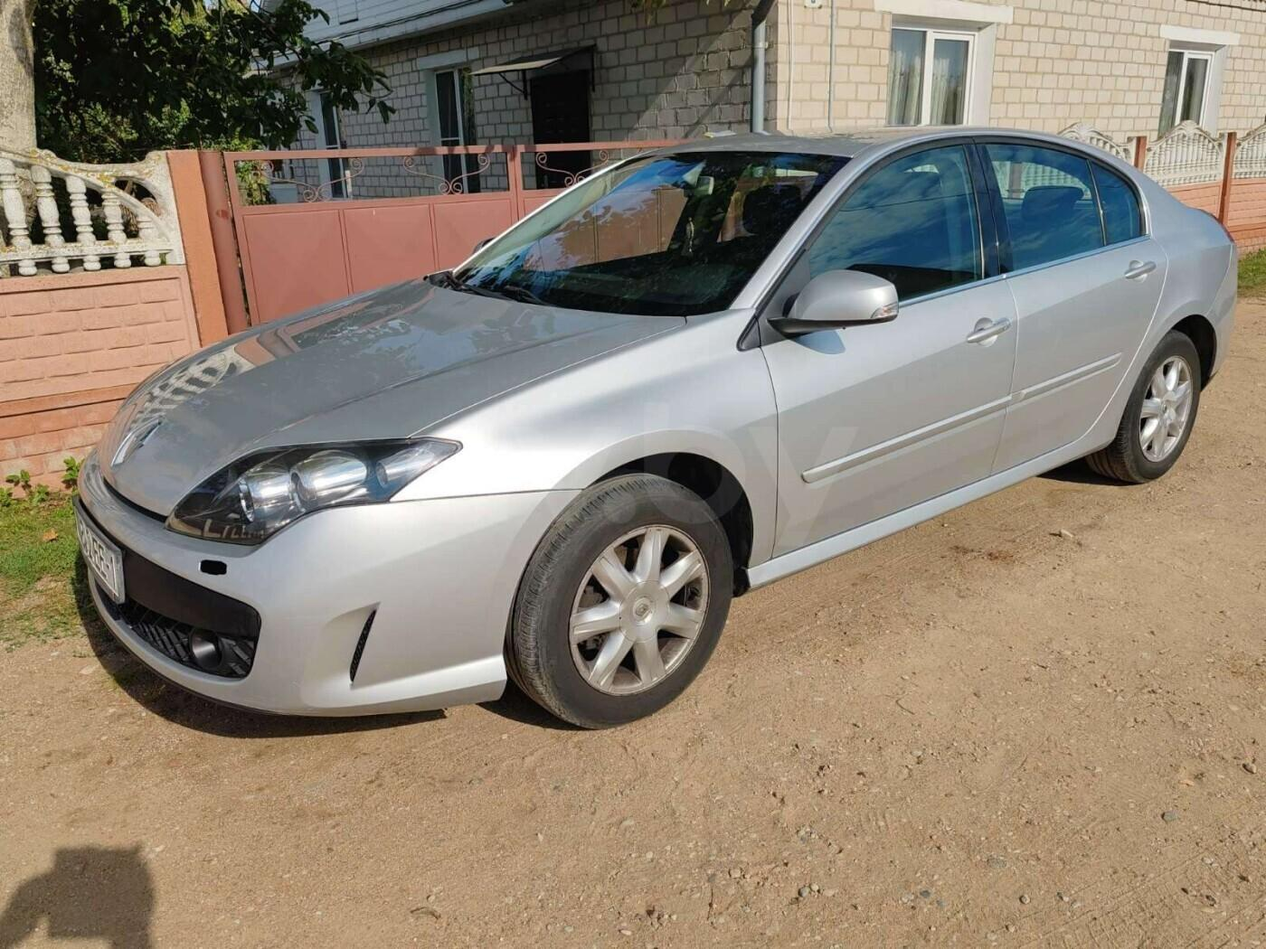Laguna_2007-2011: (75, 127, 1236, 728)
